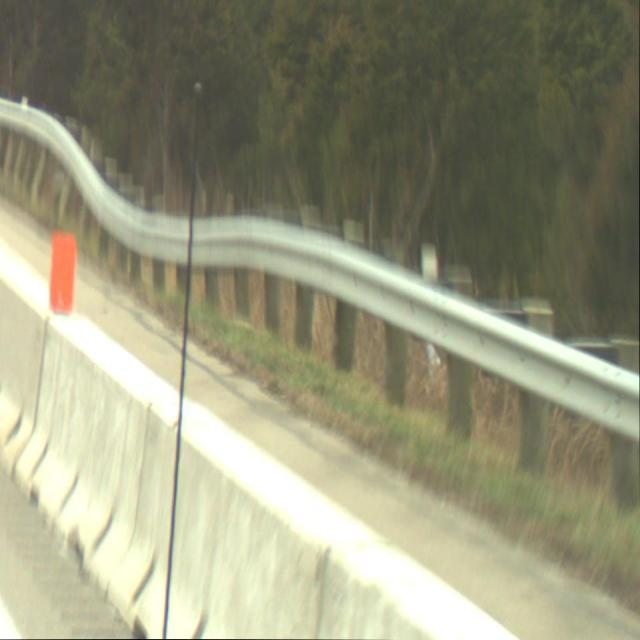Guard rail: (2, 83, 640, 516)
